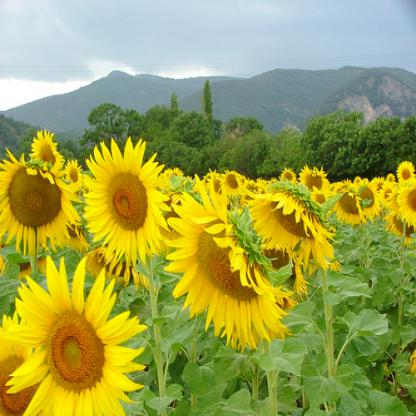SUN FLOWER: (6, 80, 412, 408)
